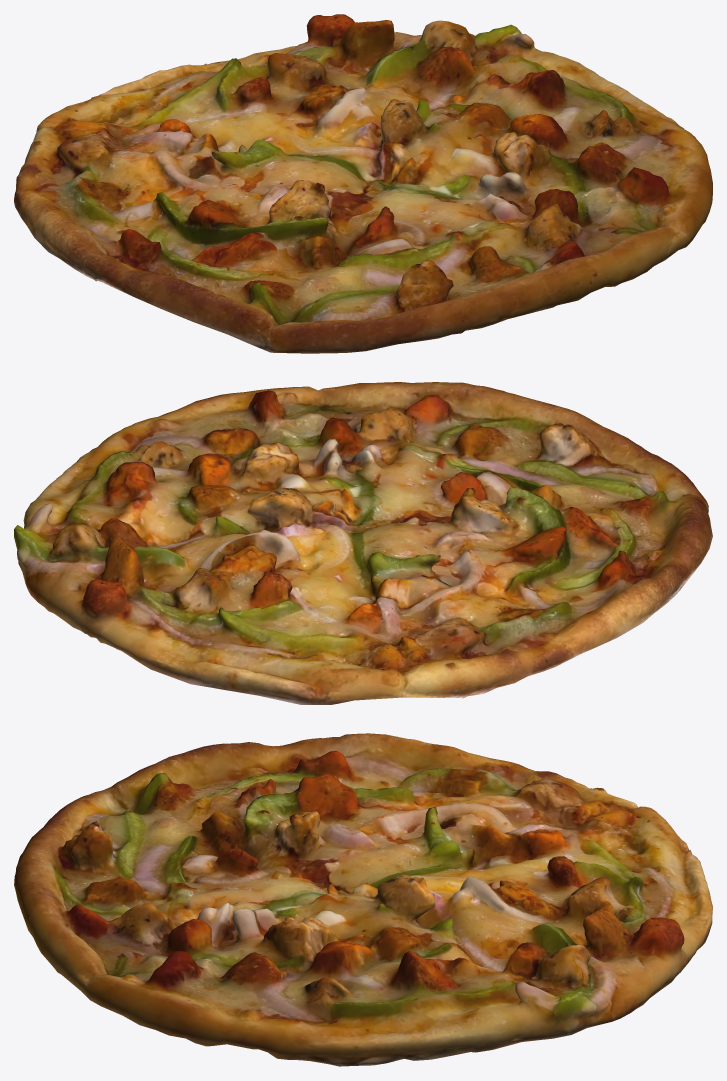
3 renders of one model, top to bottom at view 1: azimuth 30°, elevation 25°; view 2: azimuth 150°, elevation 25°; view 3: azimuth 270°, elevation 25°, orthographic. The views are drawn at different scales.
Bounding box in the file's own units: 0.2218 × 0.0265 × 0.2215.
1 material, 1 textured.
